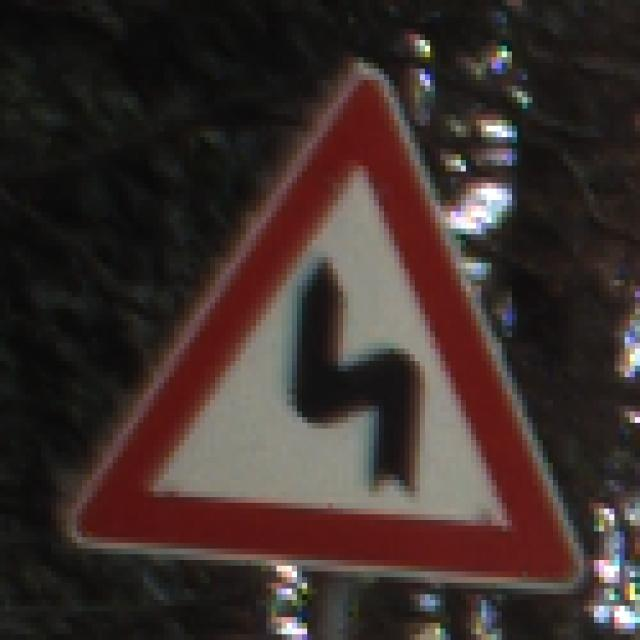left reverse bend: (72, 67, 585, 589)
